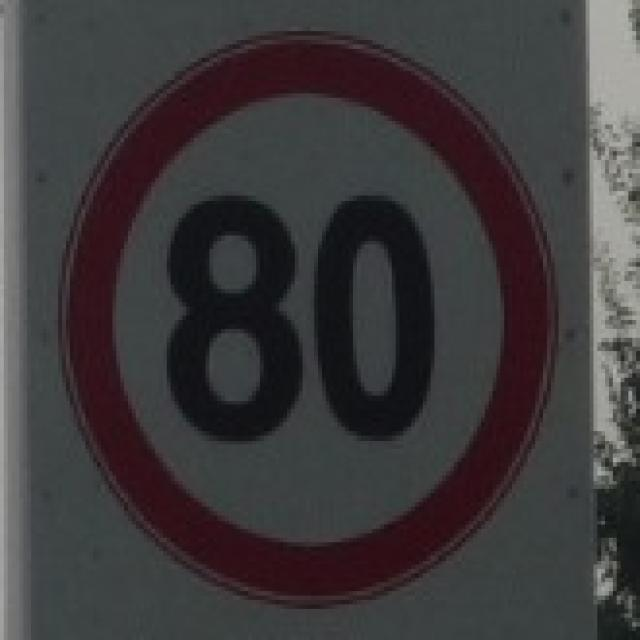Speed Limit -80-: (161, 184, 440, 452)
